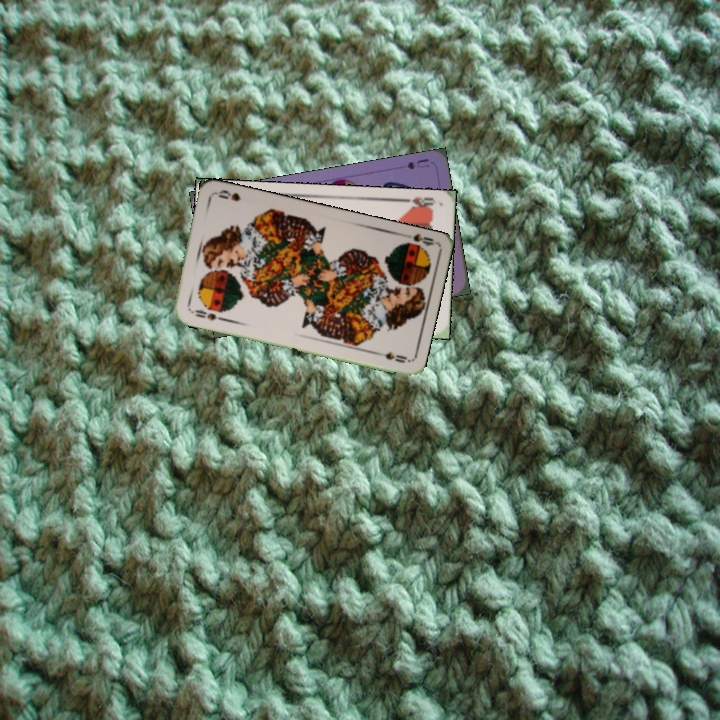HO: (399, 193, 438, 212)
SO: (395, 229, 436, 252), (186, 305, 226, 323)
SU: (403, 154, 432, 172)
